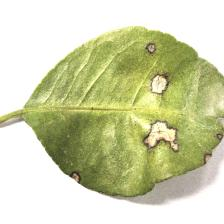canker: (124, 47, 212, 161)
